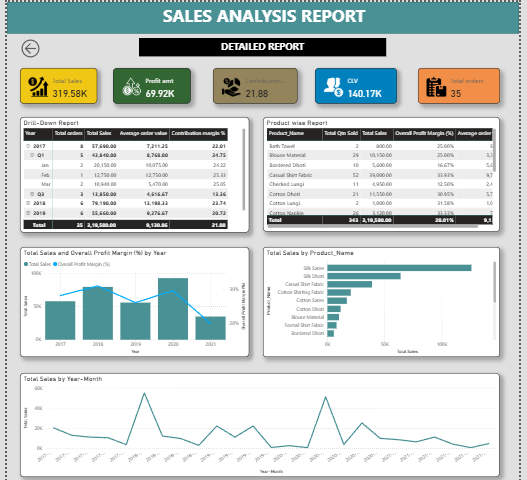

The dashboard page shown, as its layout file describes it:
{"tool":"powerbi","page":{"name":"Drill-Through","canvas":[1280,1200],"ordinal":3},"visuals":[{"type":"shape","box":[0,0,1280,79.3],"z":0},{"type":"textbox","box":[384.3,0,622.2,68.4],"z":1000},{"type":"textbox","box":[330.9,90.3,618.1,46.5],"z":2000},{"type":"cardVisual","fields":{"Data":["Base Measure.Total Sales"]},"box":[32.8,164.1,192.8,88.9],"z":3000},{"type":"cardVisual","fields":{"Data":["Base Measure.Profit amt"]},"box":[265.3,164.1,194.2,88.9],"z":4000},{"type":"cardVisual","fields":{"Data":["KPI's.Contribution margin %"]},"box":[514.2,164.1,210.6,88.9],"z":5000},{"type":"cardVisual","fields":{"Data":["KPI's.CLV"]},"box":[769.9,164.1,205.1,88.9],"z":6000},{"type":"cardVisual","fields":{"Data":["Base Measure.Total orders"]},"box":[1027,164.1,205.1,88.9],"z":7000},{"type":"pivotTable","title":"Drill-Down Report","fields":{"Rows":["Date Table.Year","Date Table.Quarter","Date Table.Month"],"Values":["Base Measure.Total orders","Base Measure.Total Sales","KPI Measures.Average order value","KPI's.Contribution margin %"]},"box":[32.8,287.2,573,288.5],"z":8000},{"type":"tableEx","title":"Product wise Report","fields":{"Values":["Product.Product_Name","Base Measure.Total Qtn Sold","Base Measure.Total Sales","Base Measure.Overall Profit Margin (%)","KPI Measures.Average order value"]},"box":[640,288.5,592.1,287.2],"z":9000},{"type":"lineStackedColumnComboChart","fields":{"Category":["Date Table.Year"],"Y":["Base Measure.Total Sales"],"Y2":["Base Measure.Overall Profit Margin (%)"]},"box":[32.8,612.6,573,274.9],"z":10000},{"type":"lineChart","fields":{"Category":["Date Table.Year-Month"],"Y":["Base Measure.Total Sales"]},"box":[32.8,927.2,1199.3,259.8],"z":11000},{"type":"barChart","fields":{"Category":["Product.Product_Name"],"Y":["Base Measure.Total Sales"]},"box":[640,612.6,592.1,274.9],"z":12000},{"type":"actionButton","box":[30.1,87.5,64.3,57.4],"z":13000}]}

Visuals, with their boxes in screenshot pixels (x1, y1, x2, y2), scaled from the page's 1280x1200 canvas onto the 527x480 screenshot:
shape: select_region(0, 0, 526, 32)
textbox: select_region(158, 0, 414, 27)
textbox: select_region(136, 36, 391, 55)
cardVisual - Base Measure.Total Sales: select_region(14, 66, 93, 101)
cardVisual - Base Measure.Profit amt: select_region(109, 66, 189, 101)
cardVisual - KPI's.Contribution margin %: select_region(212, 66, 298, 101)
cardVisual - KPI's.CLV: select_region(317, 66, 401, 101)
cardVisual - Base Measure.Total orders: select_region(423, 66, 507, 101)
"Drill-Down Report" pivotTable: select_region(14, 115, 249, 230)
"Product wise Report" tableEx: select_region(264, 115, 507, 230)
lineStackedColumnComboChart - Date Table.Year x Base Measure.Total Sales: select_region(14, 245, 249, 355)
lineChart - Date Table.Year-Month x Base Measure.Total Sales: select_region(14, 371, 507, 475)
barChart - Product.Product_Name x Base Measure.Total Sales: select_region(264, 245, 507, 355)
actionButton: select_region(12, 35, 39, 58)
